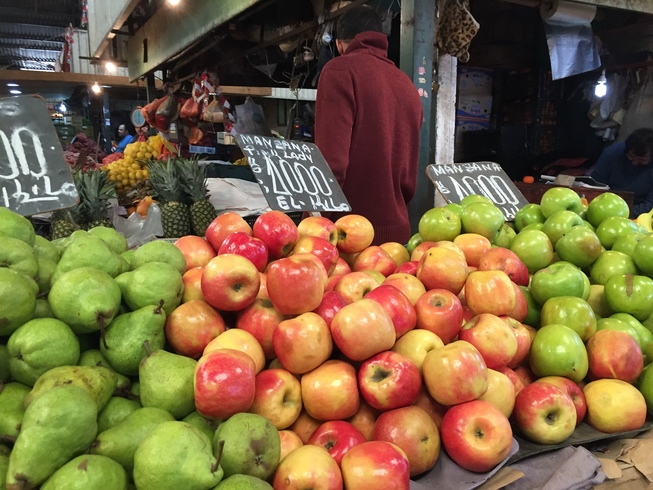precio: (235, 129, 350, 219), (1, 91, 75, 220), (427, 158, 530, 221)
